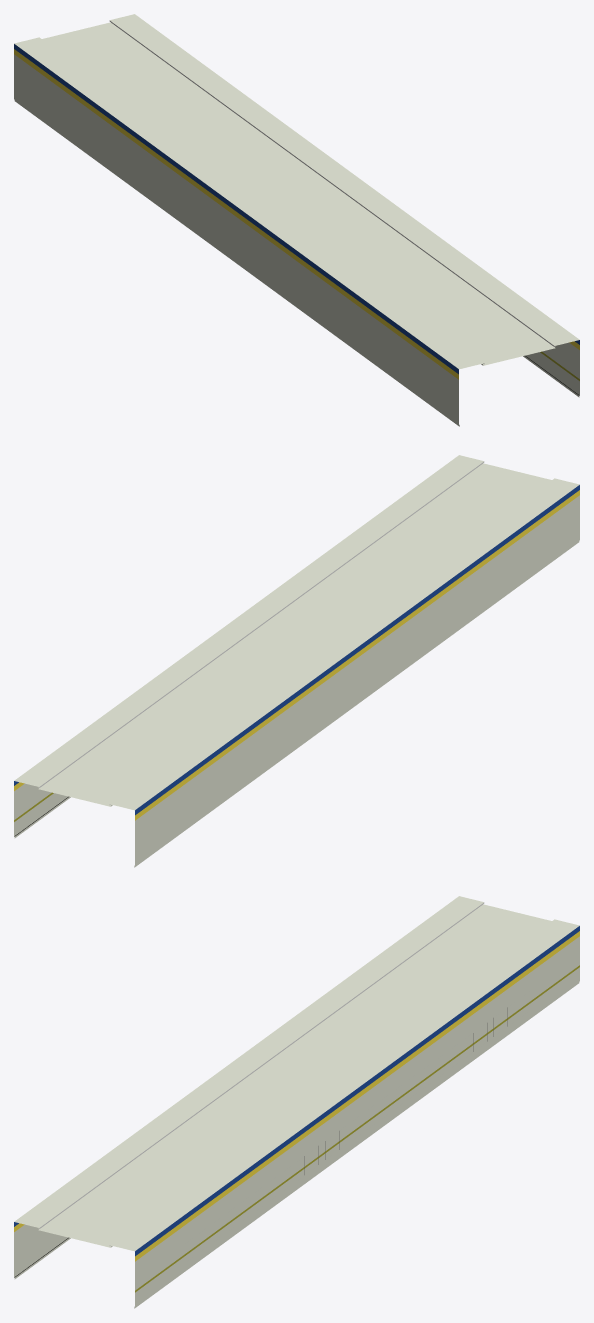
Rendered from Museum timeline posters and Wall.fbx.
3 views of the same model, one above another, from view 1: azimuth 30°, elevation 25°; view 2: azimuth 150°, elevation 25°; view 3: azimuth 330°, elevation 25° (orthographic).
Parts seen in each view (by area): view 1: Museum_Ceiling_walls; view 2: Museum_Ceiling_walls; view 3: Museum_Ceiling_walls.
Boxes of the visible parts, x1=… form: Museum_Ceiling_walls: x1=14, y1=14, x2=579, y2=426; Museum_Ceiling_walls: x1=14, y1=455, x2=579, y2=867; Museum_Ceiling_walls: x1=14, y1=896, x2=579, y2=1308.
Size of the model in its own units: 10.01 by 4.56 by 63.8.
31 materials, 2 textured.
